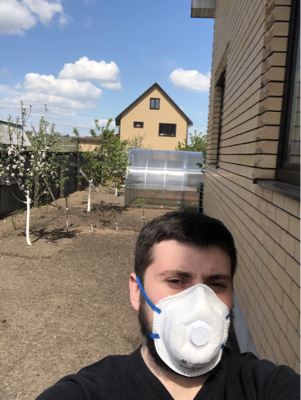with_mask: (144, 252, 233, 383)
